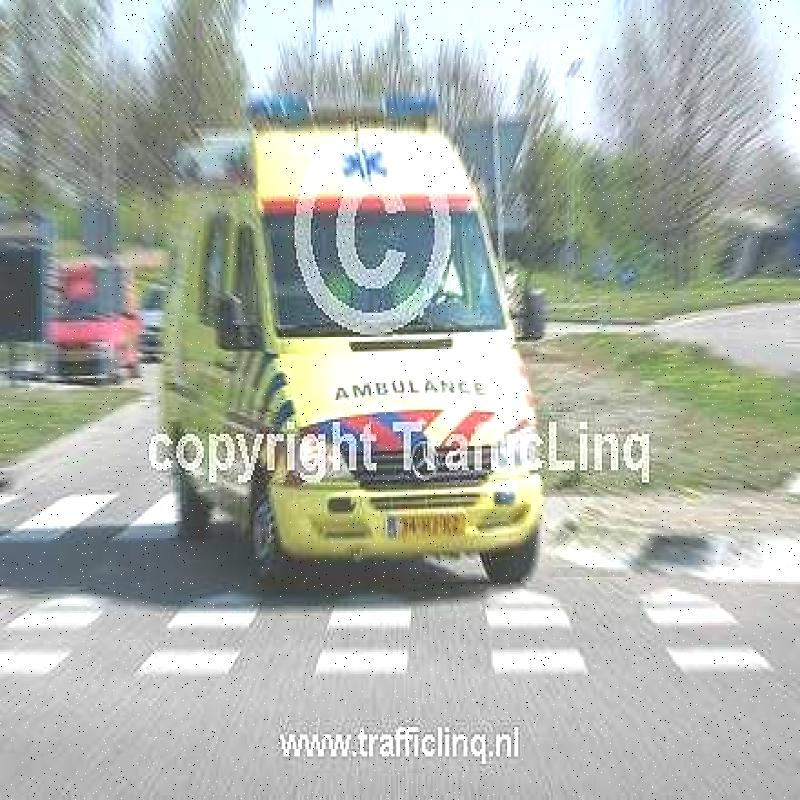AmbulanceSiren: (238, 82, 450, 154)
